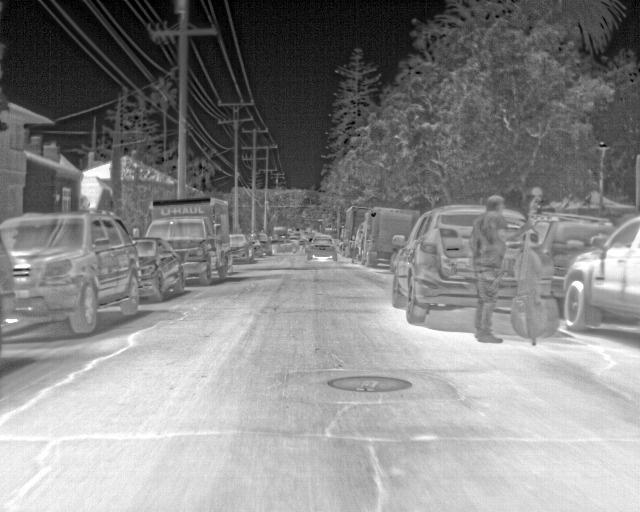bicycle: (0, 211, 141, 339), (392, 204, 487, 321), (560, 213, 639, 335), (538, 212, 616, 299), (130, 236, 185, 302), (306, 233, 339, 264), (228, 232, 257, 264), (246, 232, 275, 259), (271, 237, 300, 255)
empty: (473, 193, 510, 341)
